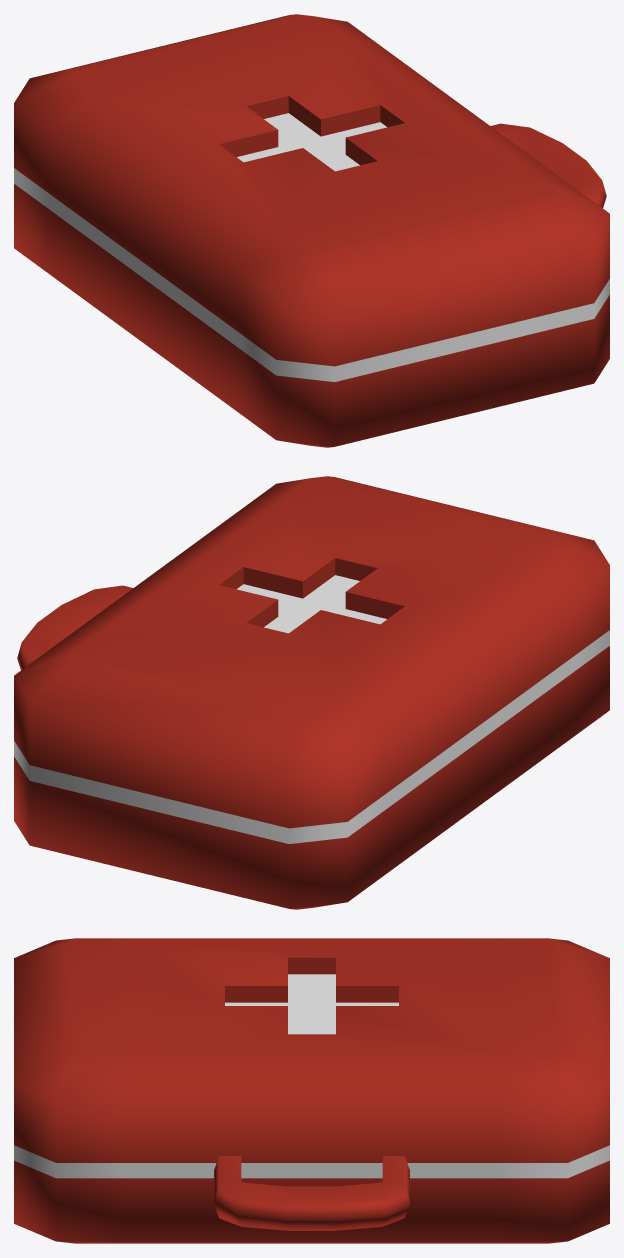
Rendered from Medkit.fbx.
The picture shows the model from 3 angles, top to bottom: view 1: azimuth 30°, elevation 25°; view 2: azimuth 150°, elevation 25°; view 3: azimuth 270°, elevation 25°; orthographic projection. The views are drawn at different scales.
Parts seen in each view (by area): view 1: Medkit; view 2: Medkit; view 3: Medkit.
Part boxes in pixels (x1,y1,x2,y2): Medkit: [14, 14, 609, 447]; Medkit: [14, 476, 609, 909]; Medkit: [14, 938, 609, 1243].
Bounding box in the file's own units: 29.55 × 12.72 × 36.16.
